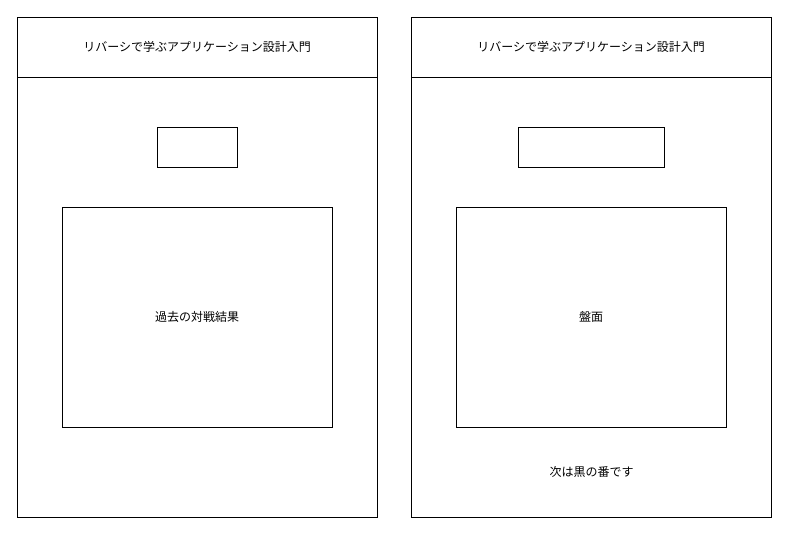
Some shapes in this 789 by 535 pixel diagram are drawn without their labels. The shapes that lost their labels are listed below. From the top down, each one's centre as x and y in pixels, then its label:
point 197,147: 対戦する
point 591,147: 白の晩はスキップです
